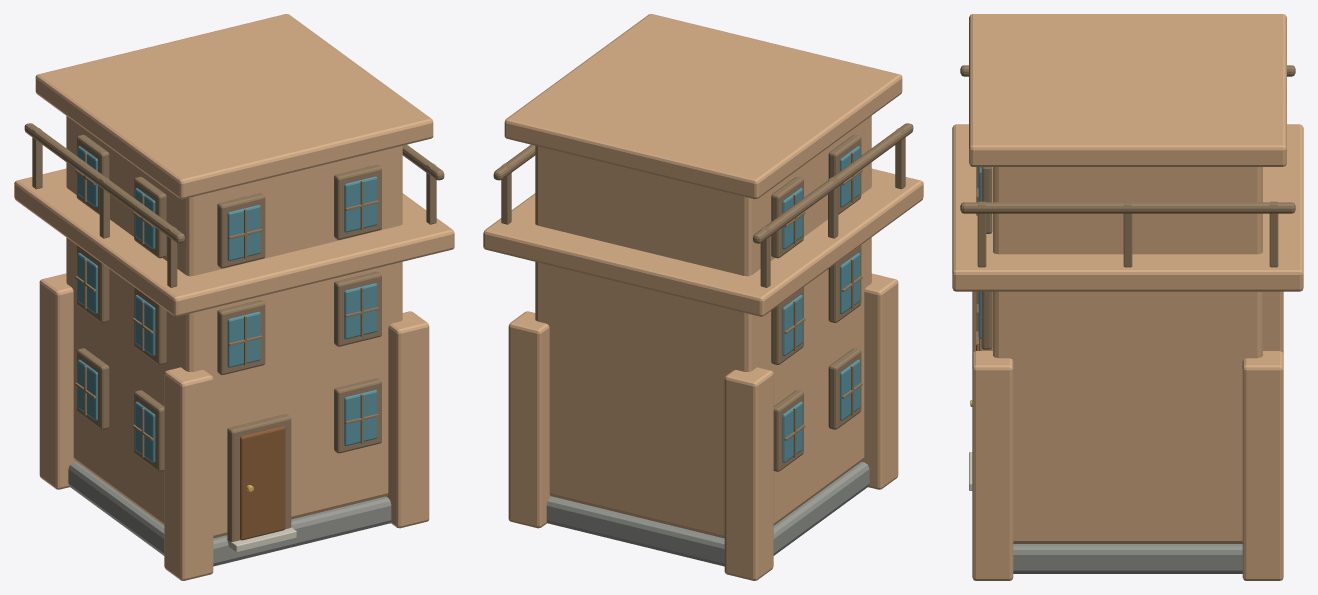
The model's file is arid-tower-1.glb.
3 views of the same model, side by side, from view 1: azimuth 30°, elevation 25°; view 2: azimuth 150°, elevation 25°; view 3: azimuth 270°, elevation 25° (orthographic). The views are drawn at different scales.
Parts seen in each view (by area): view 1: Adobe fieldstone, Adobe cream, Adobe warm_stone, Palm beams, Adobe wood, Blue glass, Foundation stone, Door oak, Cut limestone; view 2: Adobe fieldstone, Adobe cream, Adobe warm_stone, Adobe wood, Palm beams, Foundation stone, Blue glass; view 3: Adobe fieldstone, Adobe cream, Adobe warm_stone, Adobe wood, Palm beams, Foundation stone.
Part boxes in pixels (bbox=[...]): Adobe fieldstone: bbox=[66, 116, 402, 538]; Adobe cream: bbox=[35, 14, 433, 199]; Adobe warm_stone: bbox=[39, 273, 429, 580]; Palm beams: bbox=[24, 123, 444, 543]; Adobe wood: bbox=[14, 168, 454, 316]; Blue glass: bbox=[77, 146, 377, 462]; Foundation stone: bbox=[68, 461, 391, 566]; Door oak: bbox=[240, 426, 285, 540]; Cut limestone: bbox=[226, 527, 296, 552]; Adobe fieldstone: bbox=[535, 116, 871, 538]; Adobe cream: bbox=[504, 14, 902, 199]; Adobe warm_stone: bbox=[508, 273, 898, 580]; Adobe wood: bbox=[483, 168, 923, 316]; Palm beams: bbox=[493, 123, 913, 471]; Foundation stone: bbox=[546, 461, 869, 566]; Blue glass: bbox=[782, 146, 860, 462]; Adobe fieldstone: bbox=[993, 167, 1262, 543]; Adobe cream: bbox=[969, 14, 1286, 166]; Adobe warm_stone: bbox=[972, 291, 1283, 580]; Adobe wood: bbox=[952, 124, 1303, 291]; Palm beams: bbox=[960, 65, 1295, 350]; Foundation stone: bbox=[1013, 544, 1242, 573].
Size of the model in its own units: 3.25 by 4.46 by 3.25.
